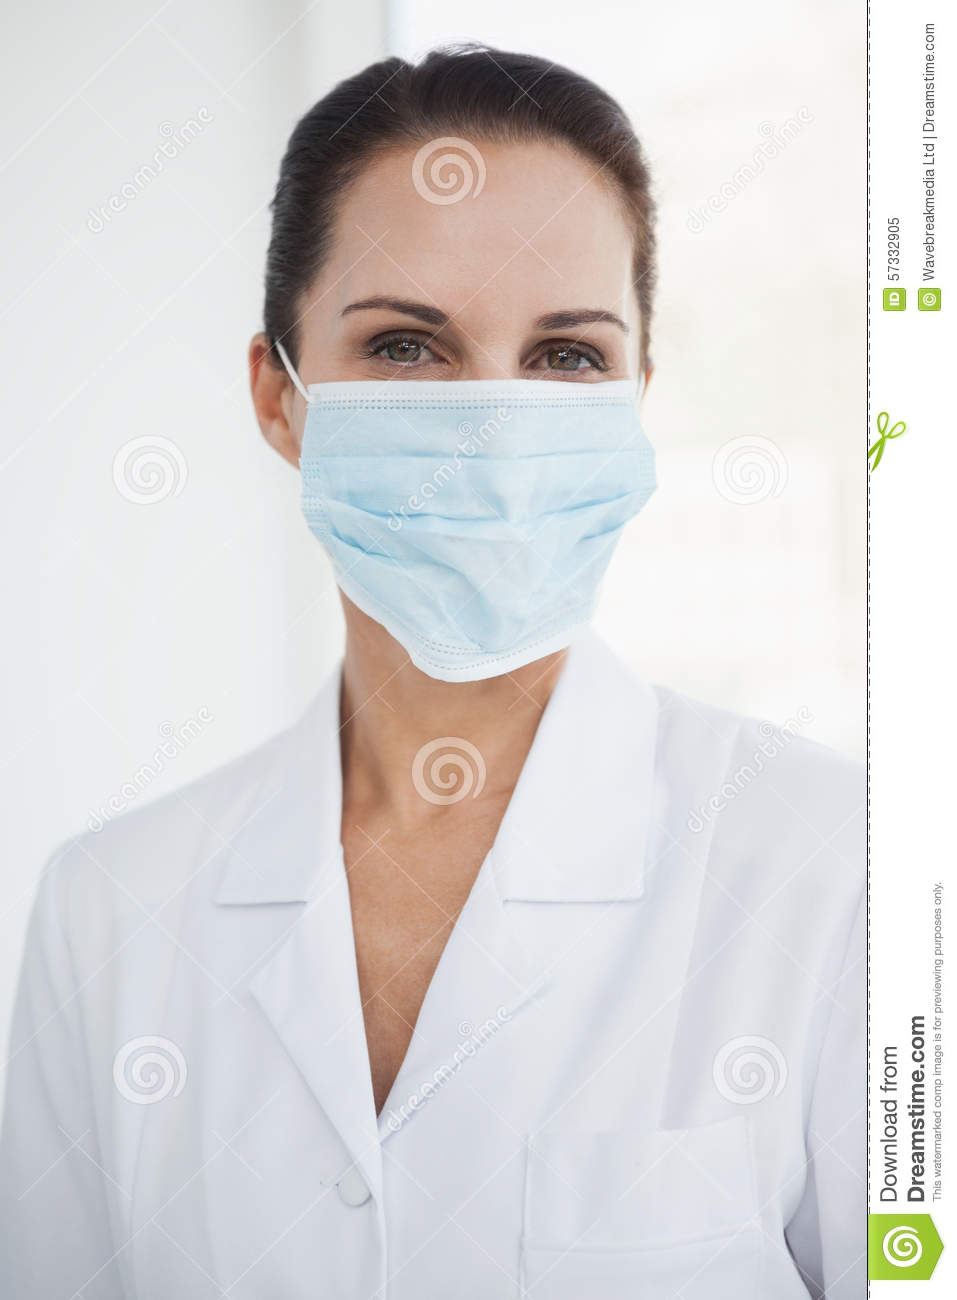mask: (292, 367, 682, 689)
